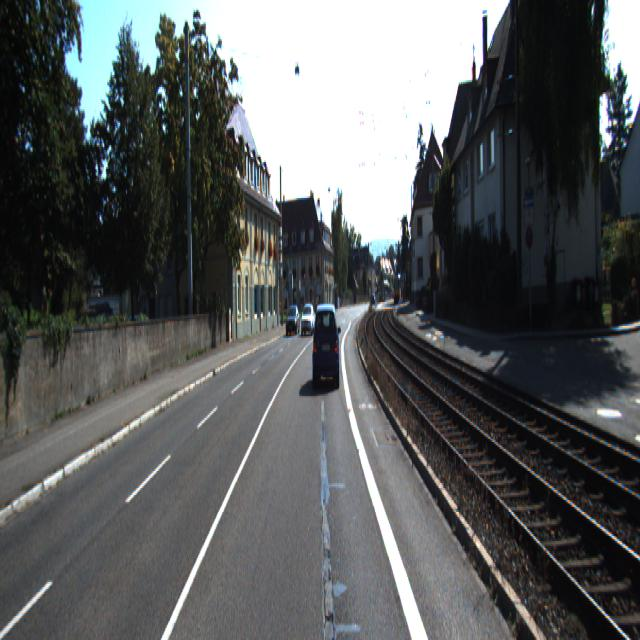Car: (311, 302, 341, 391), (301, 303, 316, 335), (286, 306, 300, 336)
